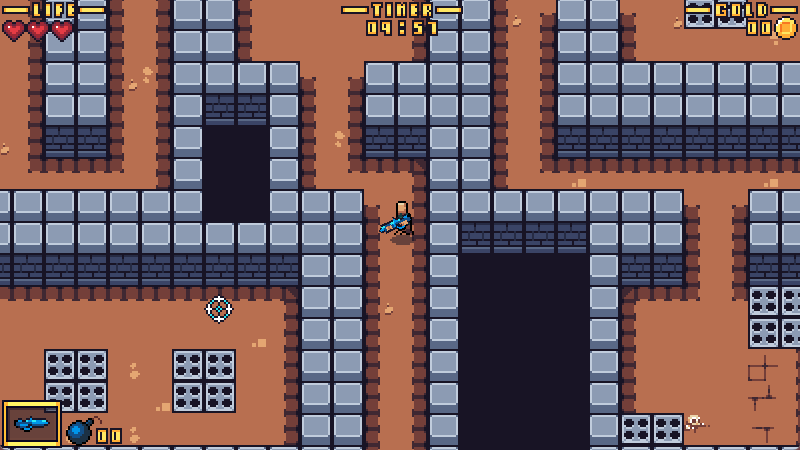aim: (204, 295, 235, 324)
bomb_counter_0: (65, 414, 124, 450)
gold_counter: (685, 2, 800, 39)
health: (2, 20, 76, 42)
player: (379, 200, 416, 240)
timer: (342, 1, 462, 37)
trap_off: (172, 348, 237, 414), (42, 348, 109, 411), (749, 286, 800, 347), (622, 413, 684, 450), (684, 1, 748, 28)
